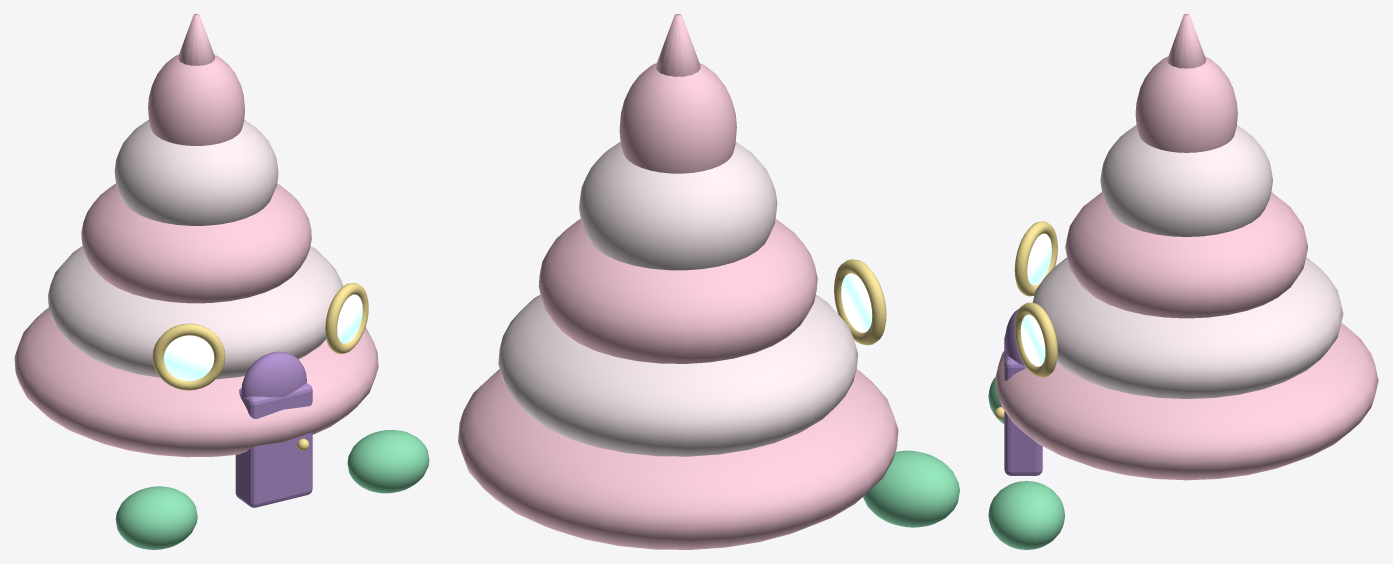
Rendered from place_home.glb.
The picture shows the model from 3 angles, left to right: view 1: azimuth 30°, elevation 25°; view 2: azimuth 150°, elevation 25°; view 3: azimuth 270°, elevation 25°; orthographic projection. The views are drawn at different scales.
Visible parts, largest first — view 1: Spiral0, Spiral1, Spiral2, Spiral3, Spiral4, Door, Bush-1, Bush1, DoorTop, WinFrame-1, Win-1, WinFrame1 (+2 smaller); view 2: Spiral0, Spiral1, Spiral2, Spiral3, Spiral4, Bush-1, WinFrame-1, Tip, Win-1; view 3: Spiral0, Spiral1, Spiral2, Spiral3, Spiral4, Bush1, Door, WinFrame1, WinFrame-1, Tip, Win-1, Win1 (+1 smaller).
Boxes of the visible parts, x1,y1,x2,y2 form: Spiral0: (14,308,378,457); Spiral1: (48,246,342,379); Spiral2: (81,183,311,303); Spiral3: (114,119,278,225); Spiral4: (148,54,244,145); Door: (235,382,312,507); Bush-1: (115,486,197,549); Bush1: (347,430,429,493); DoorTop: (241,351,306,397); WinFrame-1: (152,323,225,390); Win-1: (163,335,214,381); WinFrame1: (325,283,368,353); Spiral0: (458,369,898,549); Spiral1: (498,294,857,456); Spiral2: (538,219,817,363); Spiral3: (579,142,777,270); Spiral4: (619,63,736,173); Bush-1: (863,450,959,527); WinFrame-1: (834,259,886,345); Tip: (655,14,700,76); Win-1: (841,273,872,332); Spiral0: (994,323,1378,480); Spiral1: (1032,257,1343,398); Spiral2: (1065,192,1308,318); Spiral3: (1100,125,1272,236); Spiral4: (1135,56,1237,152); Bush1: (988,481,1064,549); Door: (1004,335,1042,475); WinFrame1: (1014,302,1057,377); WinFrame-1: (1014,221,1057,296); Tip: (1167,14,1206,68); Win-1: (1027,233,1051,285); Win1: (1020,314,1045,366).
Size of the model in its own units: 6 by 8.1 by 6.1.
